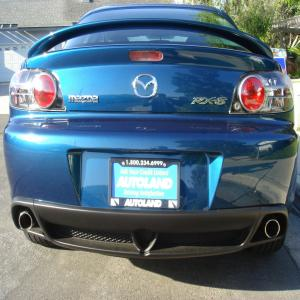Vehicle-registration-plate: (113, 165, 179, 201)
